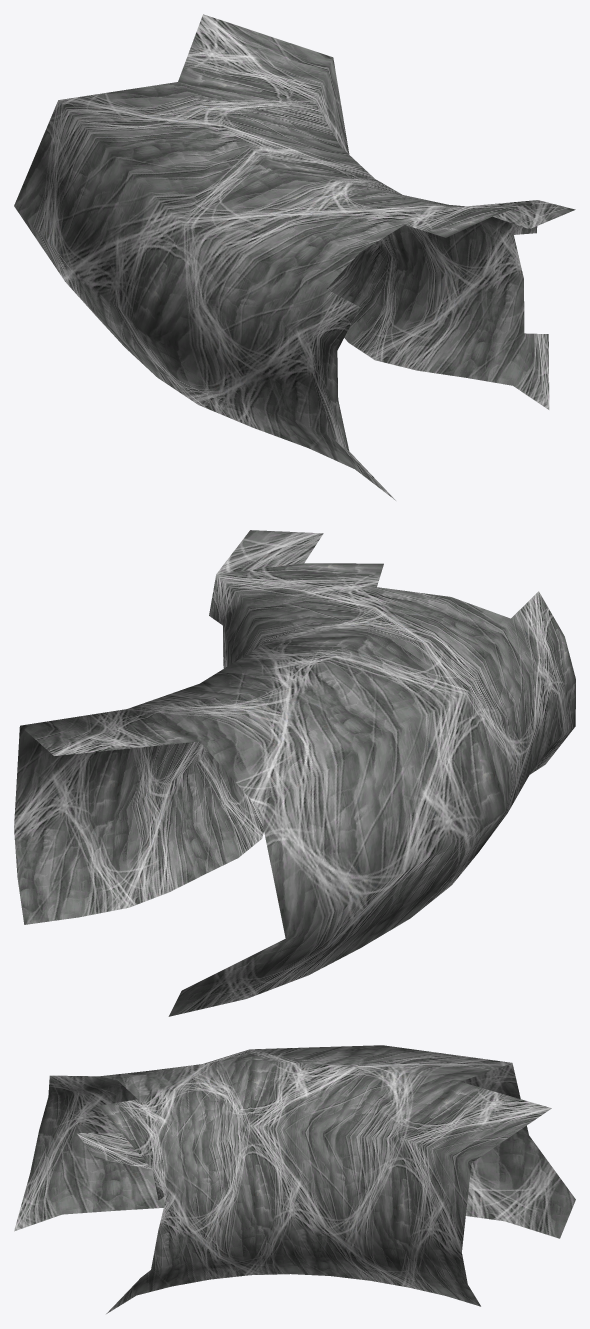
The model's file is SWORDLIGHT20_PS-AREA01_24.fbx.
The picture shows the model from 3 angles, top to bottom: view 1: azimuth 30°, elevation 25°; view 2: azimuth 150°, elevation 25°; view 3: azimuth 270°, elevation 25°; orthographic projection. The views are drawn at different scales.
Parts seen in each view (by area): view 1: SWORDLIGHT20_PS-AREA01_24; view 2: SWORDLIGHT20_PS-AREA01_24; view 3: SWORDLIGHT20_PS-AREA01_24.
Part boxes in pixels (box(x1,y1,x2,y2)): SWORDLIGHT20_PS-AREA01_24: box(14, 14, 575, 500); SWORDLIGHT20_PS-AREA01_24: box(14, 530, 575, 1016); SWORDLIGHT20_PS-AREA01_24: box(14, 1045, 575, 1313).
Size of the model in its own units: 87521 by 55302 by 155413.
1 material, 1 textured.
